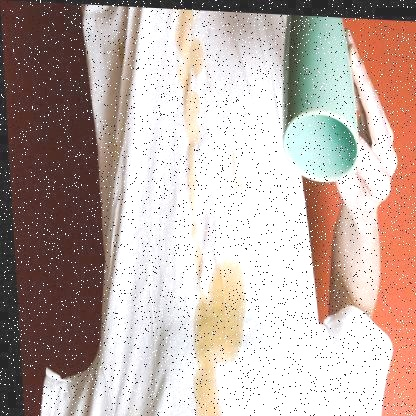coffee: (193, 260, 247, 365), (174, 14, 209, 86), (184, 93, 201, 210), (195, 371, 218, 416)
